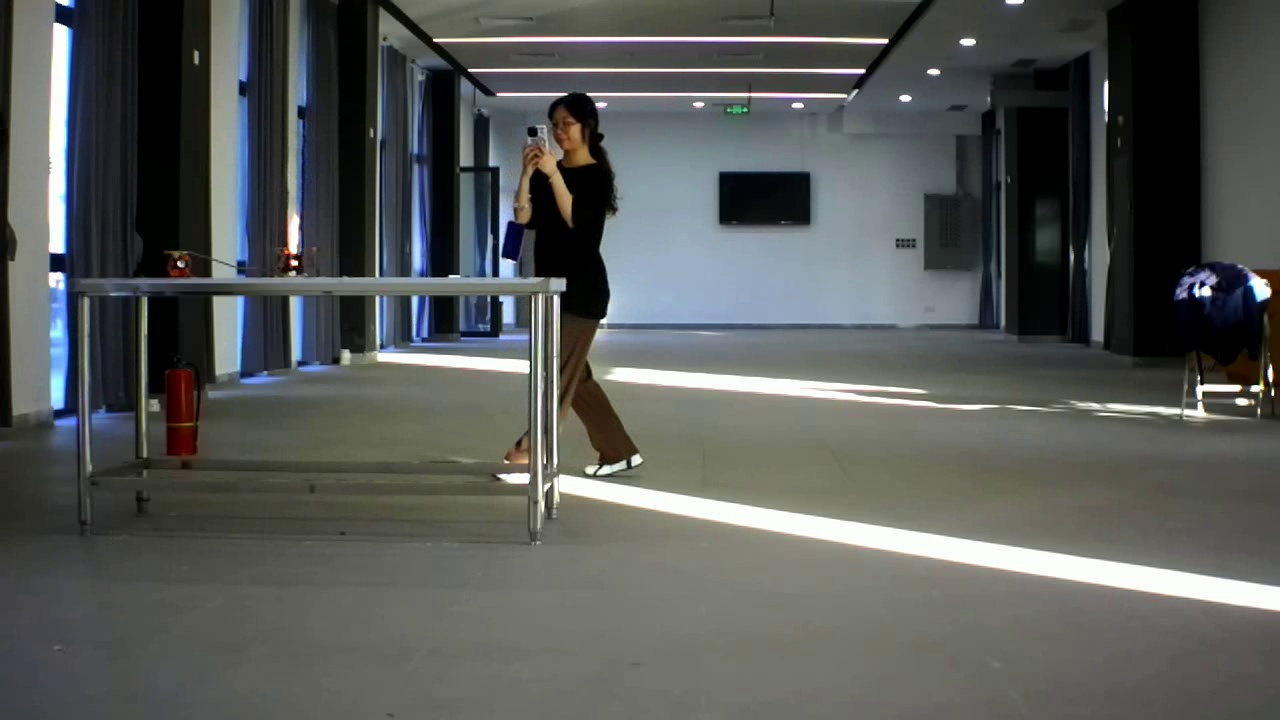Fire: (281, 210, 309, 262)
